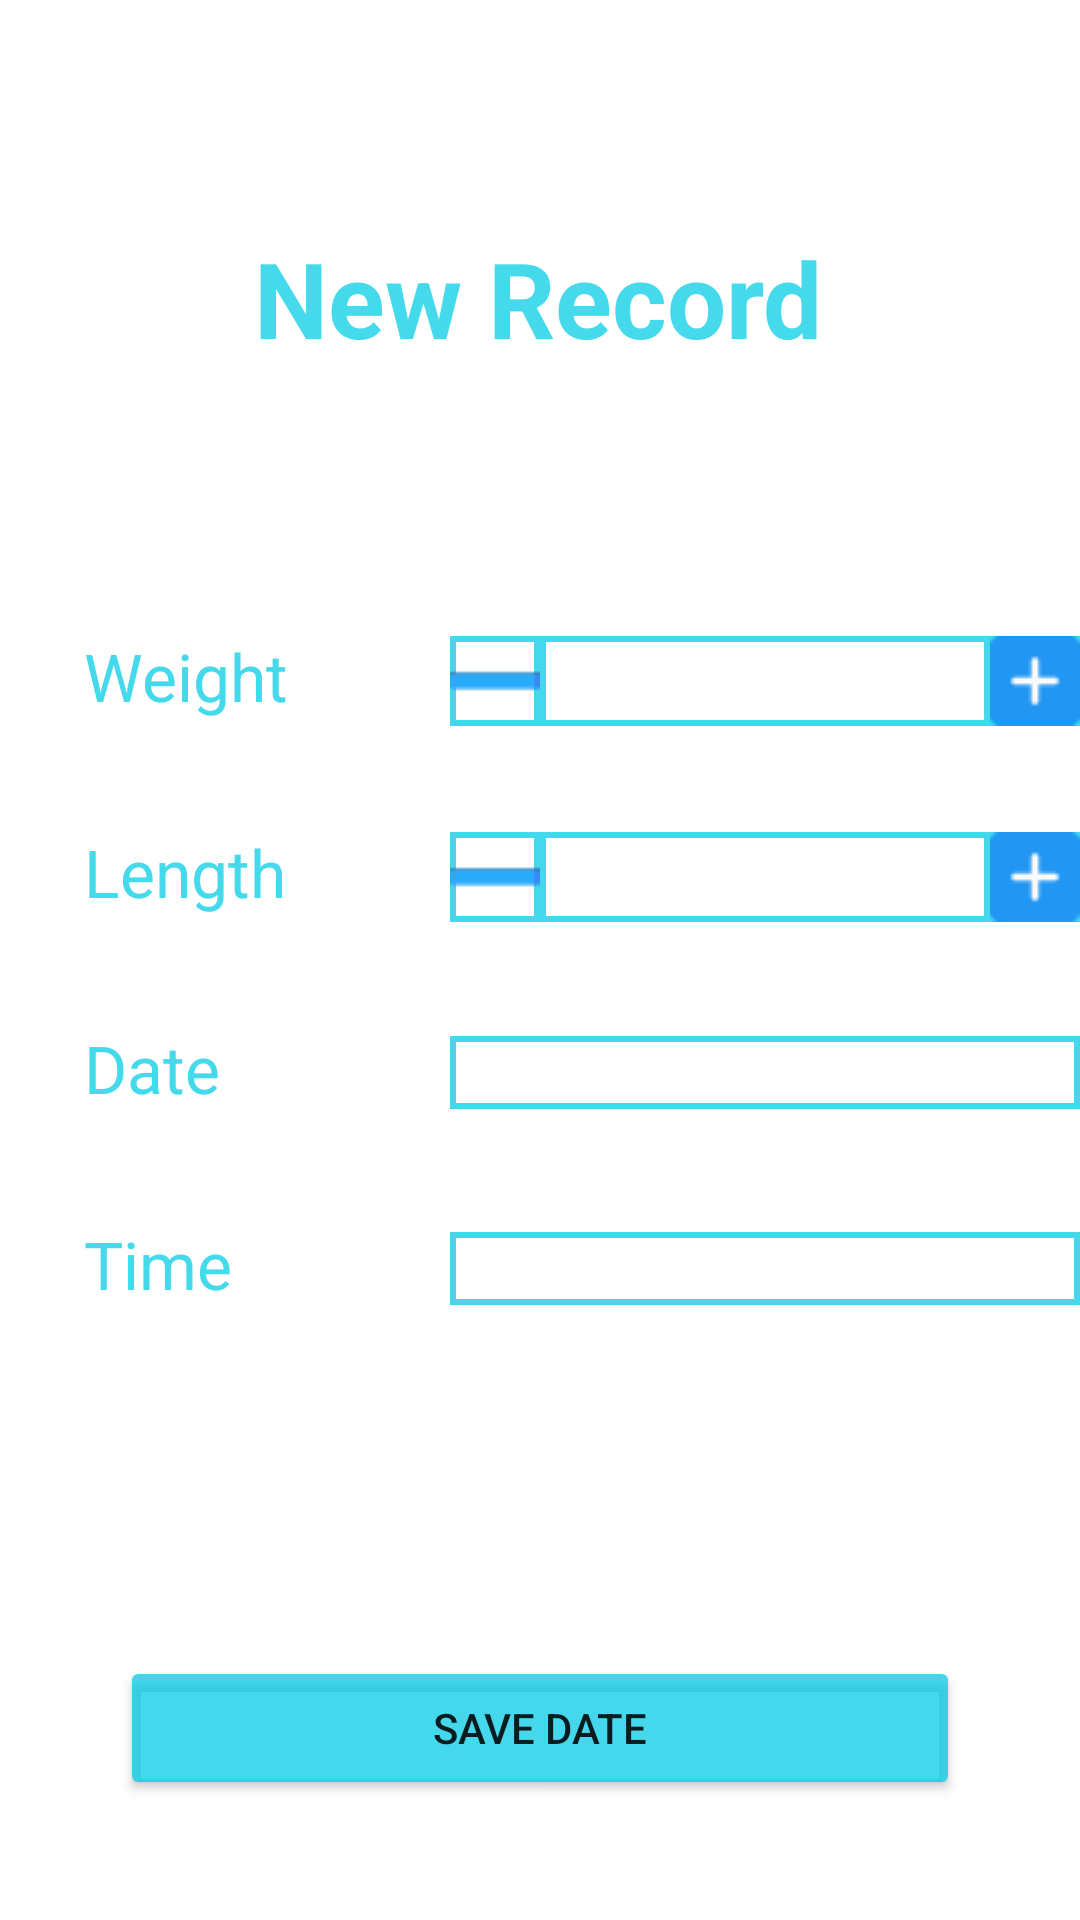

Icons on this 1080px x 1920px Android screen, each with its box as (x1, y1, x2, y2):
minus: (450, 636, 540, 726), (450, 832, 540, 922)
plus: (990, 636, 1080, 726), (990, 832, 1080, 922)
